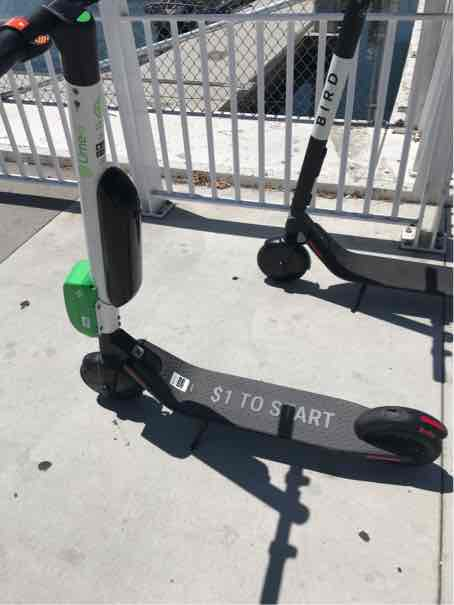scooter: (9, 18, 443, 513)
